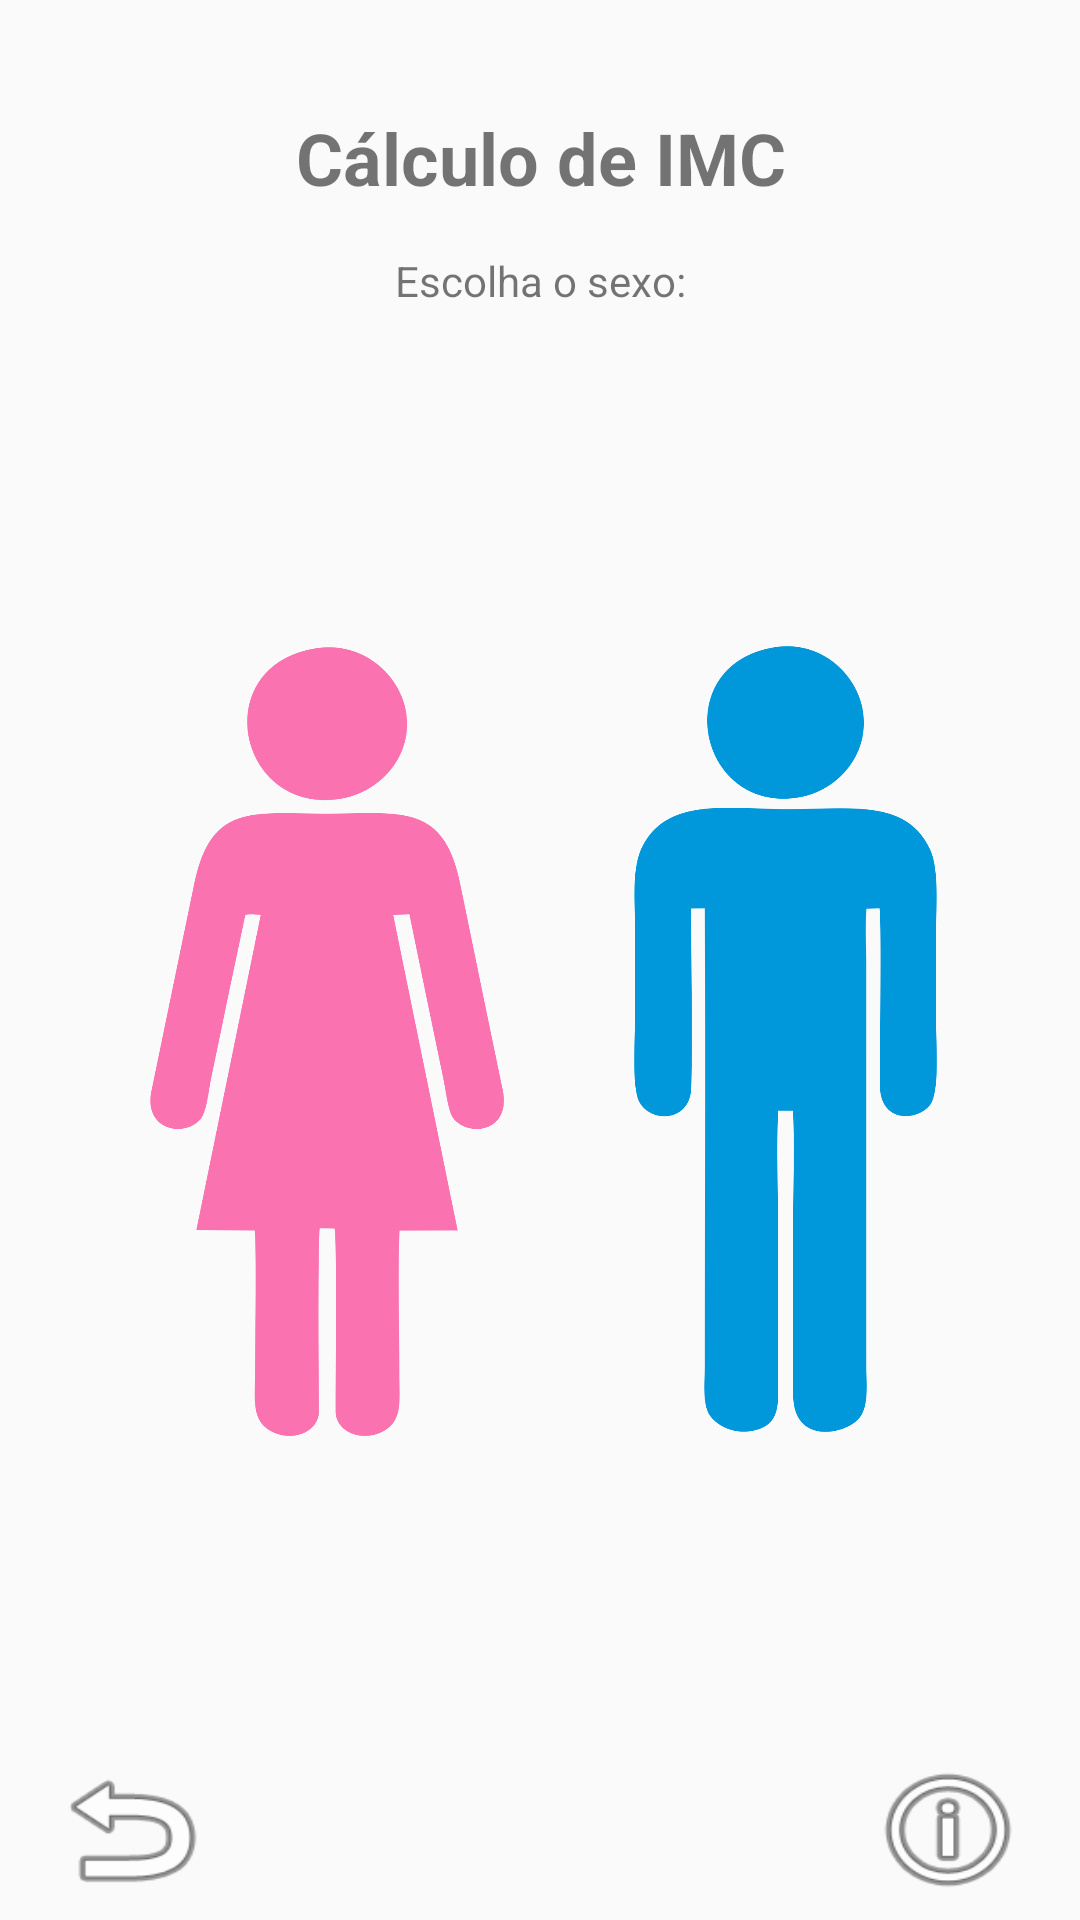

Locate icon controls on the screen. Image size 1080*1920, boxes as region(x1, y1, x2, y2).
info details: region(885, 1774, 1011, 1886)
revert: region(70, 1780, 196, 1882)
